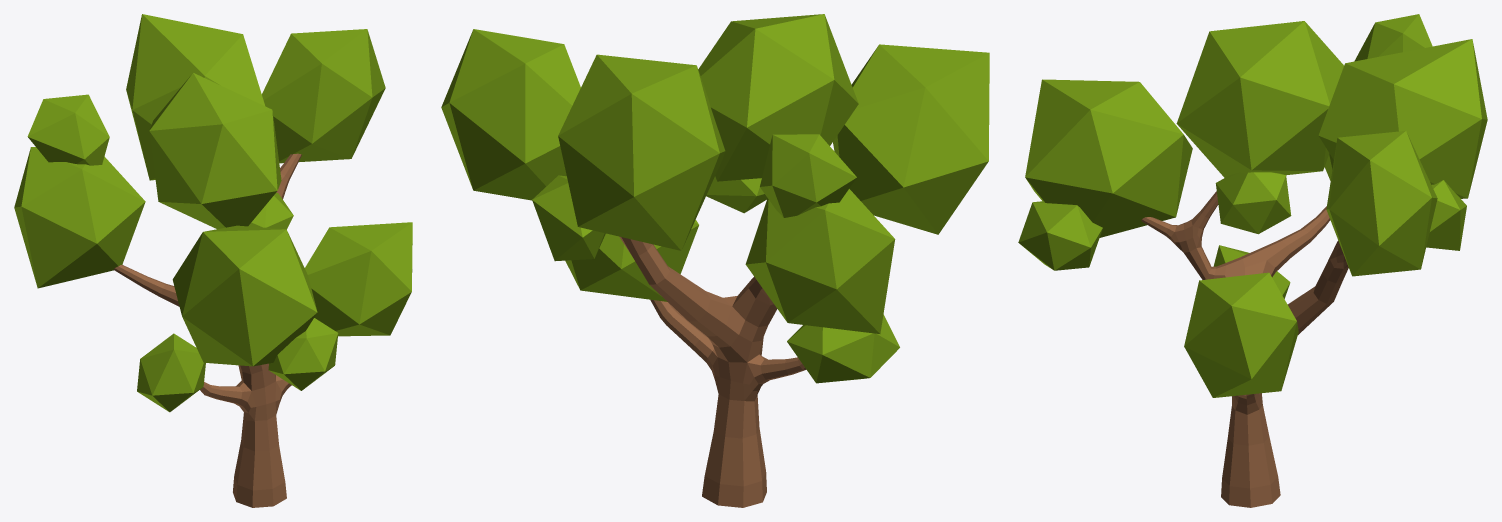
File: tree5.gltf
3 renders of one model, left to right at view 1: azimuth 30°, elevation 25°; view 2: azimuth 150°, elevation 25°; view 3: azimuth 270°, elevation 25°, orthographic. The views are drawn at different scales.
Parts seen in each view (by area): view 1: Tree 1.001_292; view 2: Tree 1.001_292; view 3: Tree 1.001_292.
Part boxes in pixels (x1,y1,x2,y2): Tree 1.001_292: [14, 14, 412, 507]; Tree 1.001_292: [441, 14, 989, 507]; Tree 1.001_292: [1018, 14, 1487, 507].
Bounding box in the file's own units: 1.39 × 1.49 × 1.39.
